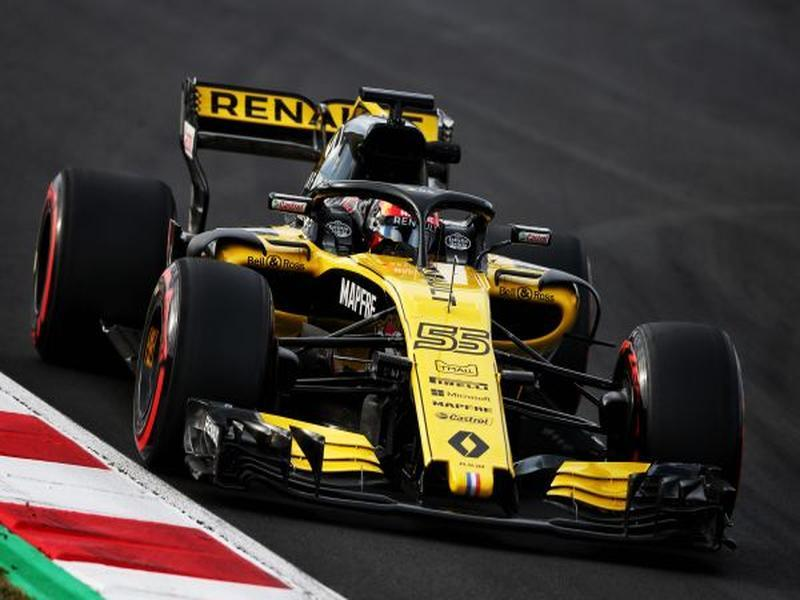f1: (25, 63, 761, 559)
